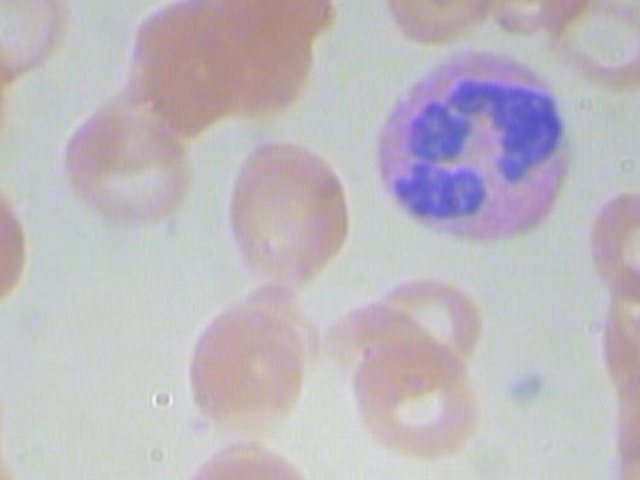Platelets: (502, 354, 556, 416)
RBC: (213, 132, 362, 283), (64, 93, 213, 244), (174, 293, 323, 444), (104, 0, 274, 130), (341, 324, 484, 467), (365, 263, 496, 367), (323, 296, 453, 400), (542, 0, 640, 88), (574, 180, 640, 300), (585, 265, 640, 408), (0, 174, 49, 320), (165, 444, 337, 480), (0, 0, 71, 85), (0, 431, 31, 480)
WBC: (355, 33, 602, 249)
